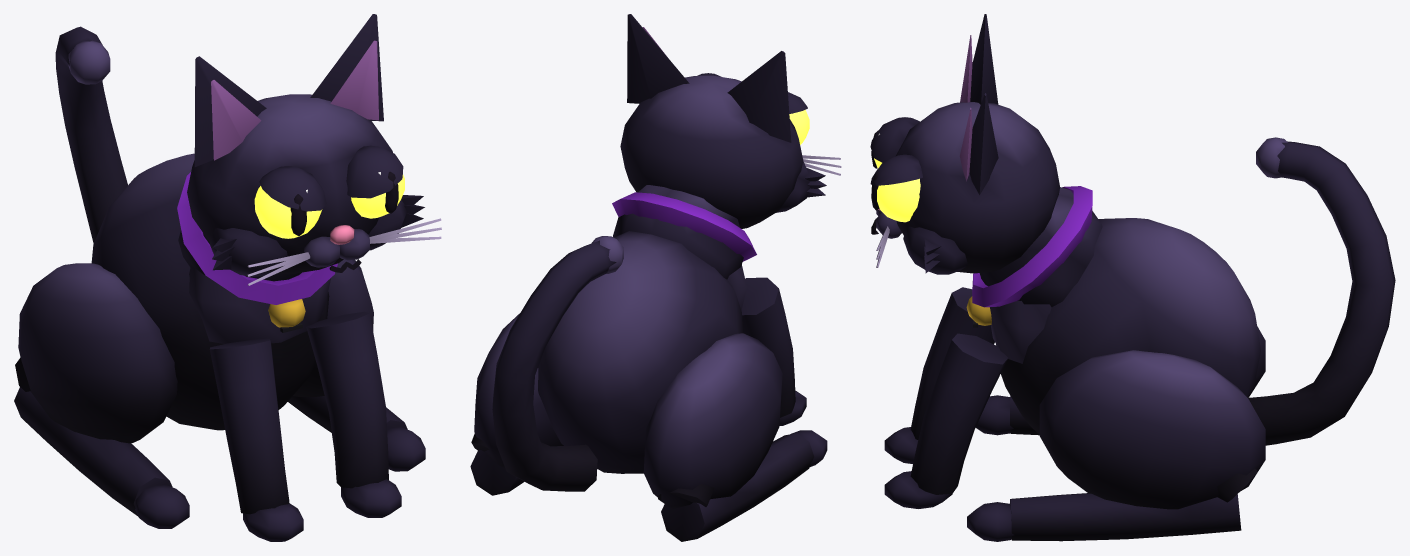
File: hopper_haunted.glb
3 views of the same model, side by side, from view 1: azimuth 30°, elevation 25°; view 2: azimuth 150°, elevation 25°; view 3: azimuth 270°, elevation 25° (orthographic). The views are drawn at different scales.
Parts seen in each view (by area): view 1: body, leg_R, leg_L; view 2: body, leg_R, leg_L; view 3: body, leg_L, leg_R.
Part boxes in pixels (left/top/right/bottom): body: left=55, top=14, right=441, bottom=541; leg_R: left=14, top=263, right=189, bottom=528; leg_L: left=288, top=259, right=425, bottom=471; body: left=492, top=14, right=841, bottom=491; leg_R: left=643, top=333, right=827, bottom=541; leg_L: left=470, top=313, right=563, bottom=495; body: left=870, top=14, right=1395, bottom=508; leg_L: left=967, top=350, right=1265, bottom=541; leg_R: left=975, top=326, right=1265, bottom=435.
Size of the model in its own units: 0.5852 by 0.85 by 0.9414.
